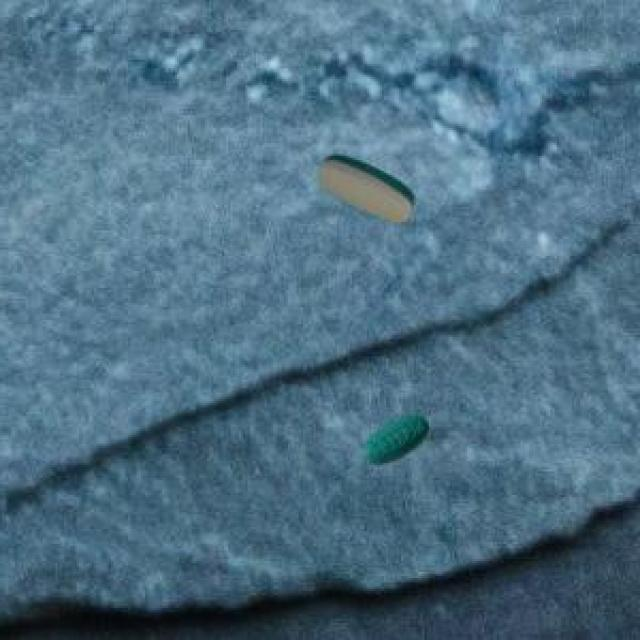Neozep: (310, 143, 422, 227), (347, 404, 438, 474)
